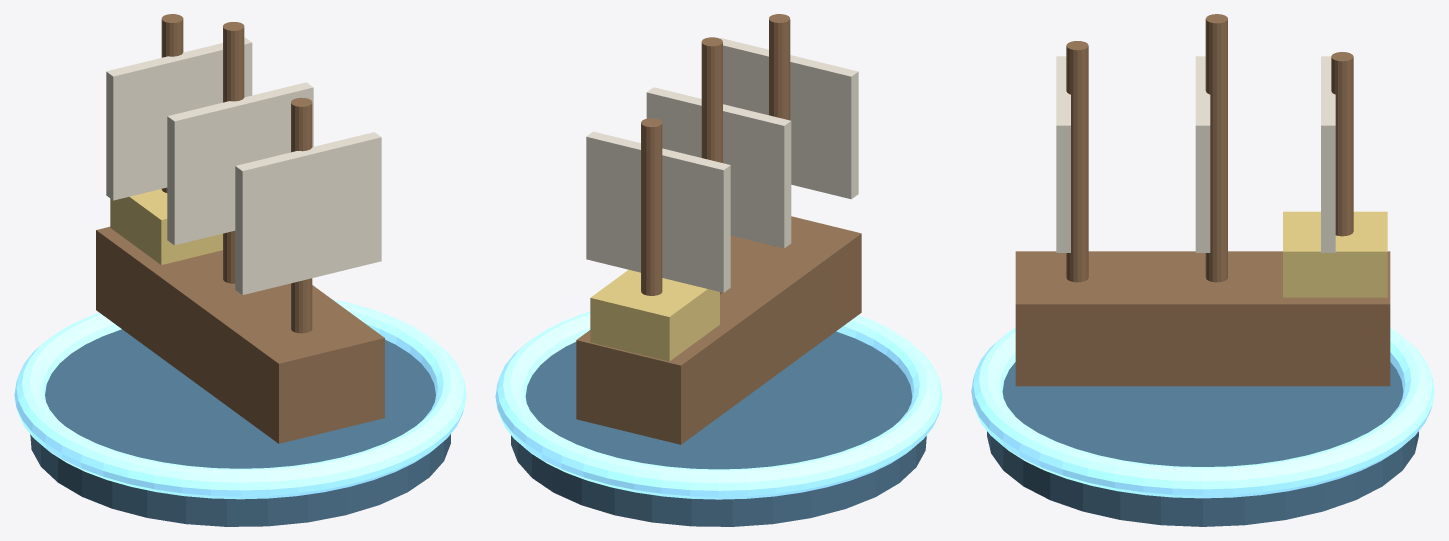
Rendered from bellerophon_ship.glb.
The picture shows the model from 3 angles, left to right: view 1: azimuth 30°, elevation 25°; view 2: azimuth 150°, elevation 25°; view 3: azimuth 270°, elevation 25°; orthographic projection. The views are drawn at different scales.
Visible parts, largest first — view 1: Cylinder, Cube, Torus, Cube.002, Cube.003, Cube.004, Cube.001, Cylinder.002, Cylinder.001, Cylinder.003; view 2: Cylinder, Cube, Torus, Cube.004, Cube.002, Cube.003, Cube.001, Cylinder.003, Cylinder.002, Cylinder.001; view 3: Cube, Cylinder, Torus, Cube.001, Cylinder.002, Cylinder.001, Cylinder.003, Cube.003, Cube.002, Cube.004.
Part boxes in pixels (left/top/right/bottom): Cylinder: left=30, top=329, right=450, bottom=526; Cube: left=96, top=226, right=384, bottom=443; Torus: left=14, top=299, right=466, bottom=499; Cube.002: left=235, top=132, right=381, bottom=294; Cube.003: left=167, top=82, right=313, bottom=245; Cube.004: left=106, top=37, right=252, bottom=200; Cube.001: left=110, top=189, right=222, bottom=264; Cylinder.002: left=223, top=22, right=244, bottom=283; Cylinder.001: left=291, top=97, right=312, bottom=333; Cylinder.003: left=161, top=14, right=183, bottom=192; Cylinder: left=511, top=331, right=926, bottom=526; Cube: left=576, top=216, right=861, bottom=444; Torus: left=495, top=311, right=942, bottom=499; Cube.004: left=586, top=131, right=730, bottom=292; Cube.002: left=720, top=38, right=858, bottom=199; Cube.003: left=646, top=87, right=791, bottom=248; Cube.001: left=590, top=270, right=719, bottom=361; Cylinder.003: left=641, top=118, right=662, bottom=295; Cylinder.002: left=701, top=37, right=722, bottom=294; Cylinder.001: left=769, top=14, right=790, bottom=246; Cube: left=1015, top=251, right=1390, bottom=386; Cylinder: left=987, top=362, right=1418, bottom=526; Torus: left=971, top=328, right=1434, bottom=498; Cube.001: left=1283, top=211, right=1387, bottom=297; Cylinder.002: left=1205, top=14, right=1227, bottom=282; Cylinder.001: left=1066, top=41, right=1088, bottom=282; Cylinder.003: left=1331, top=52, right=1353, bottom=236; Cube.003: left=1195, top=56, right=1210, bottom=252; Cube.002: left=1056, top=56, right=1070, bottom=252; Cube.004: left=1321, top=56, right=1335, bottom=252.
Bounding box in the file's own units: 1.33 × 1.32 × 1.33.
